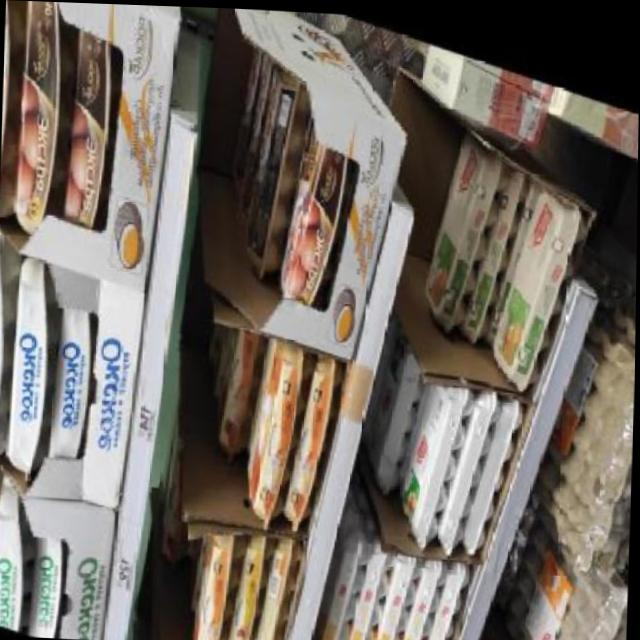Egg: (0, 0, 92, 243), (489, 176, 588, 401), (420, 120, 510, 341), (275, 96, 358, 325), (0, 251, 68, 486), (57, 22, 129, 230), (243, 333, 313, 532), (284, 346, 347, 535), (0, 0, 42, 227), (48, 295, 99, 464), (212, 318, 265, 464), (0, 473, 43, 633), (192, 525, 247, 640), (0, 220, 25, 471), (223, 524, 275, 640), (24, 534, 73, 638)
